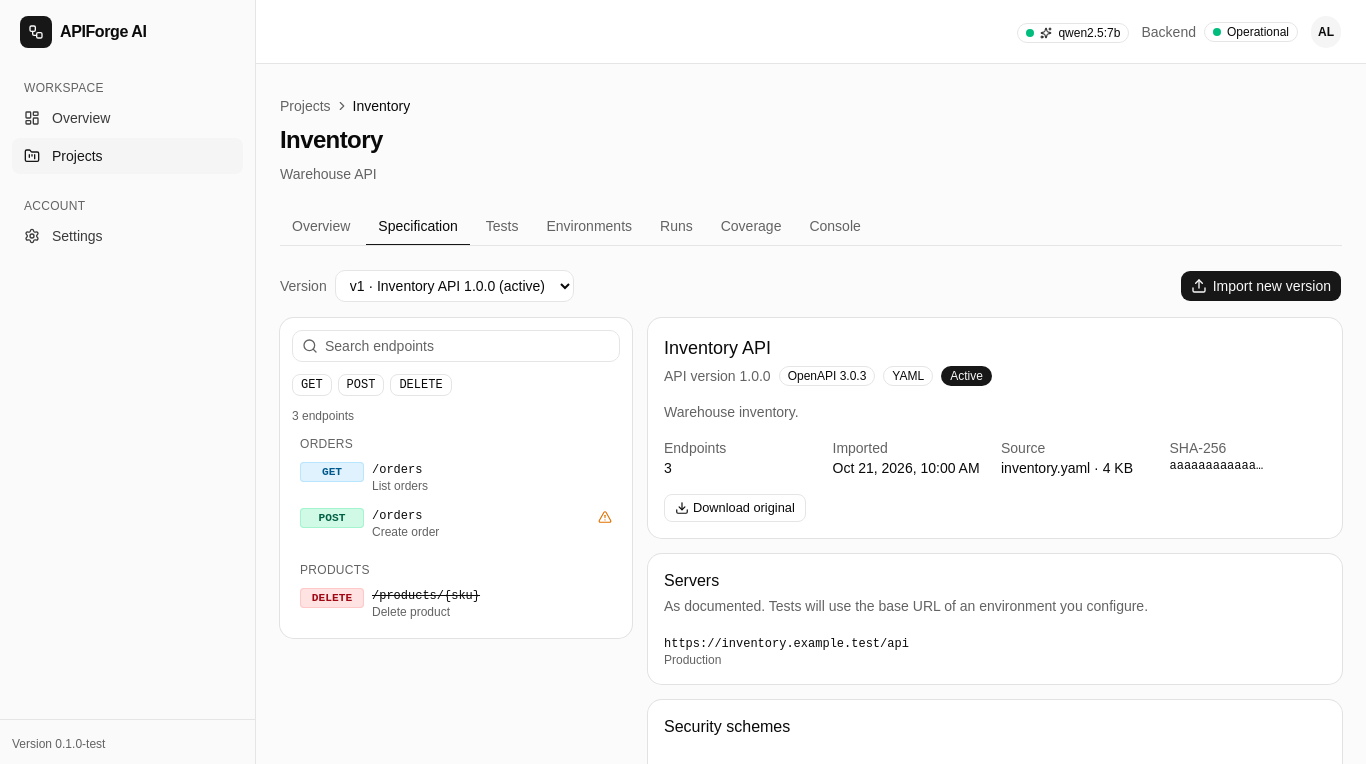
it: Specification explorer › lists endpoints grouped by tag with method badges, and searches them
This screenshot has width=1366, height=764.
Expected: the element named "Tag orders" is shown, [292,436,620,546]
Expected: the element named "Tag products" is shown, [300,563,480,619]
Type "product" into the search field at (456, 346), box [292,330,620,362]
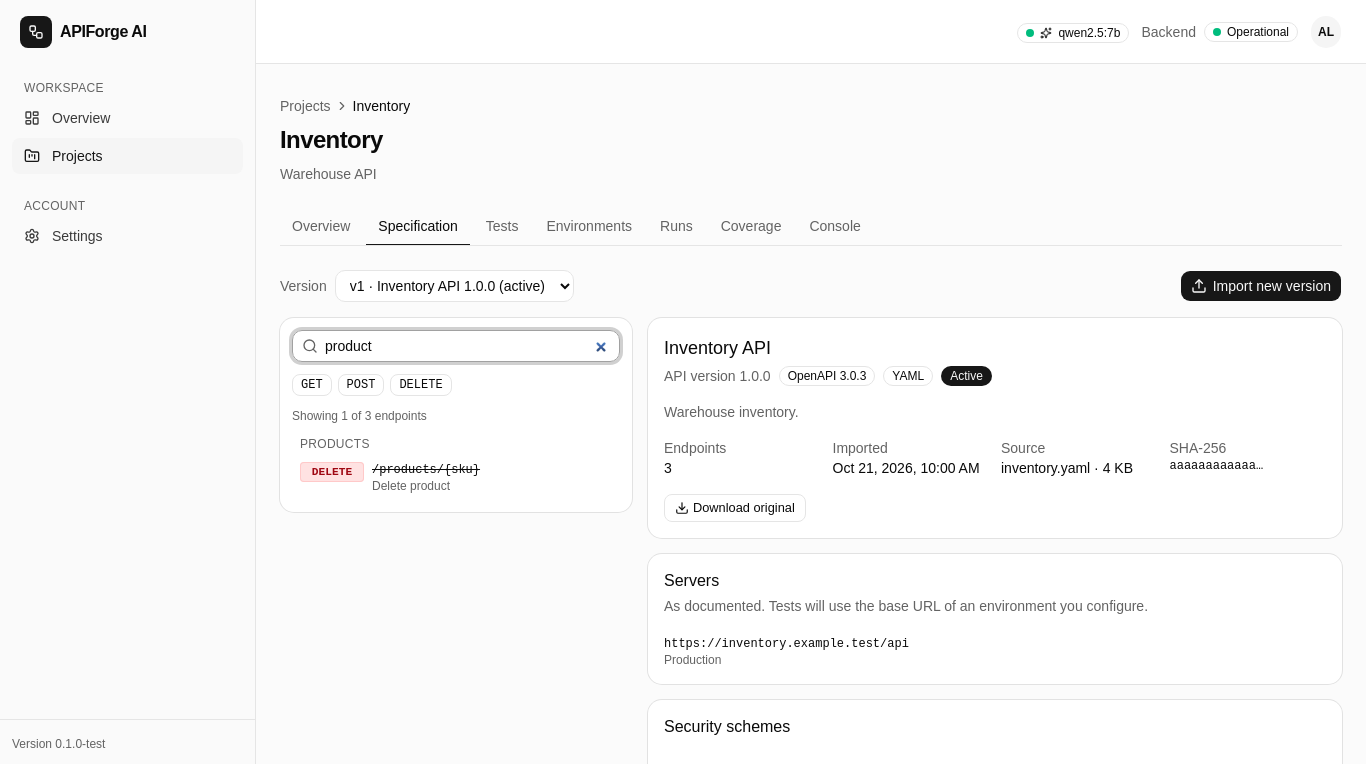
Expected: the text "/products/{sku}" is shown, [372,463,480,477]
Now the text "Showing 1 of 3 endpoints" is shown, box [292,409,427,423]
Now the link "List orders" is gone
